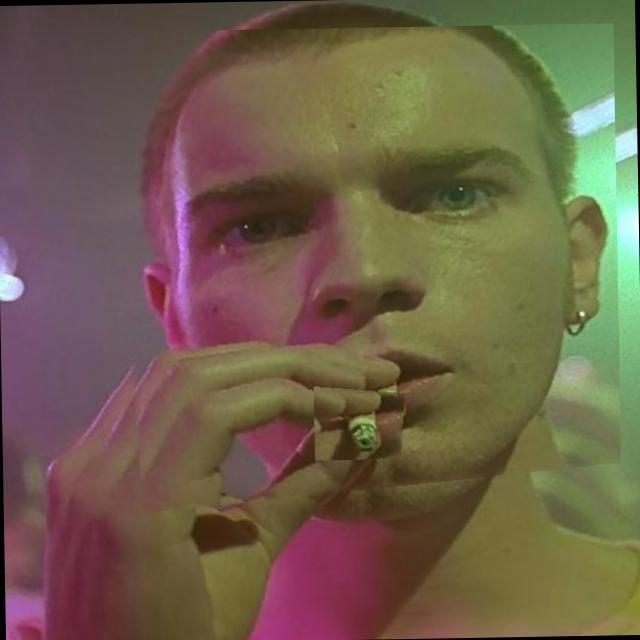cigarette: (314, 384, 406, 460)
